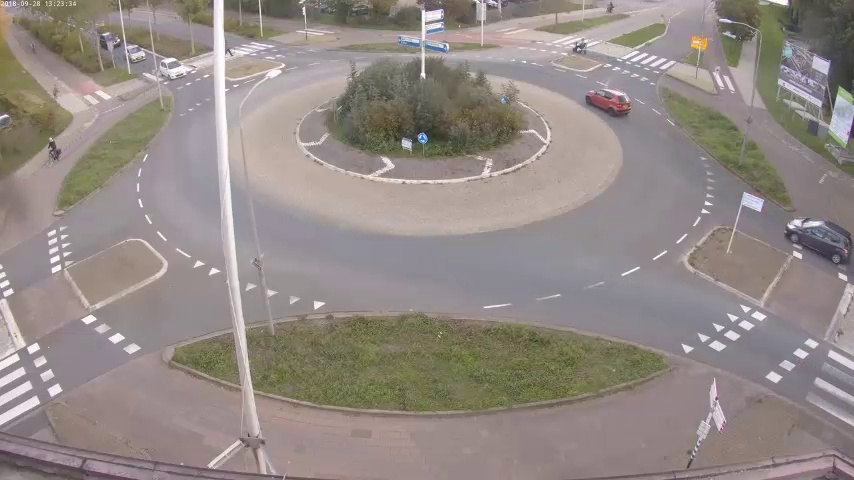bicycle: (42, 138, 59, 169), (570, 36, 587, 57)
car: (786, 215, 854, 267), (587, 85, 634, 119), (155, 58, 188, 82), (123, 45, 146, 66), (96, 30, 117, 49)
